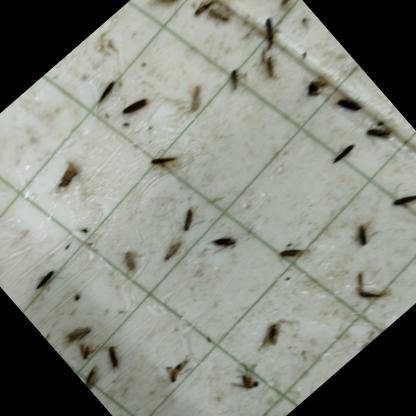prays_oleae: (340, 257, 402, 320), (292, 53, 349, 109), (243, 306, 298, 360), (224, 356, 277, 410), (52, 305, 104, 357), (326, 80, 374, 130), (171, 78, 219, 126), (154, 343, 198, 387), (144, 139, 187, 182), (274, 233, 316, 276), (384, 174, 416, 226), (328, 134, 368, 172), (342, 216, 380, 254), (50, 158, 88, 196), (364, 111, 400, 150), (110, 244, 146, 282), (117, 92, 154, 128), (221, 63, 256, 100), (29, 262, 64, 298), (254, 16, 288, 52), (90, 74, 124, 107), (70, 332, 102, 365), (210, 226, 242, 258), (175, 206, 207, 238), (141, 0, 189, 21), (78, 360, 107, 390), (159, 237, 189, 266), (99, 342, 128, 370), (358, 324, 387, 350), (263, 0, 305, 17), (224, 403, 265, 416)
